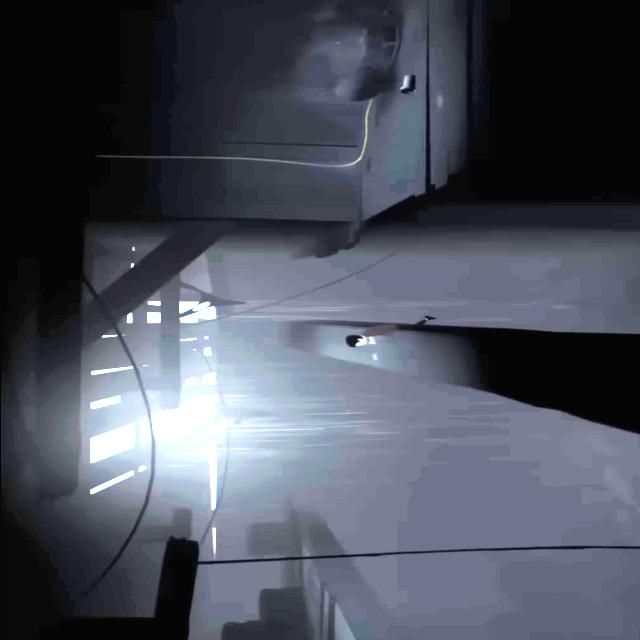boy: (345, 316, 437, 348)
